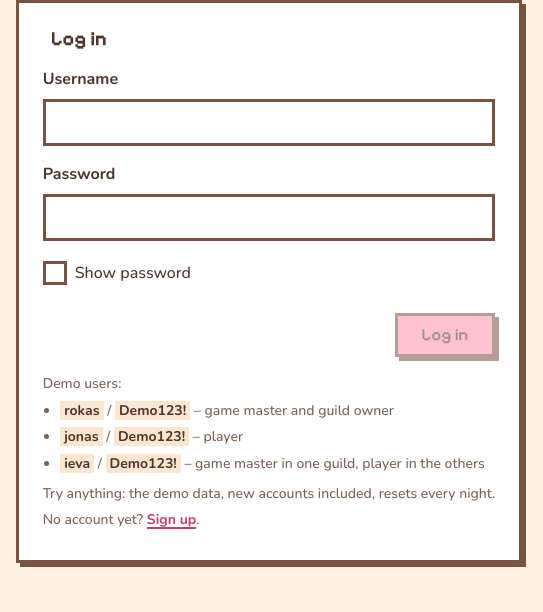
Test: LoginPage › shows the server error next to the form
This screenshot has width=543, height=612.
Type "jonas" into the field labelled "Username" at (269, 122), box [43, 99, 495, 146]
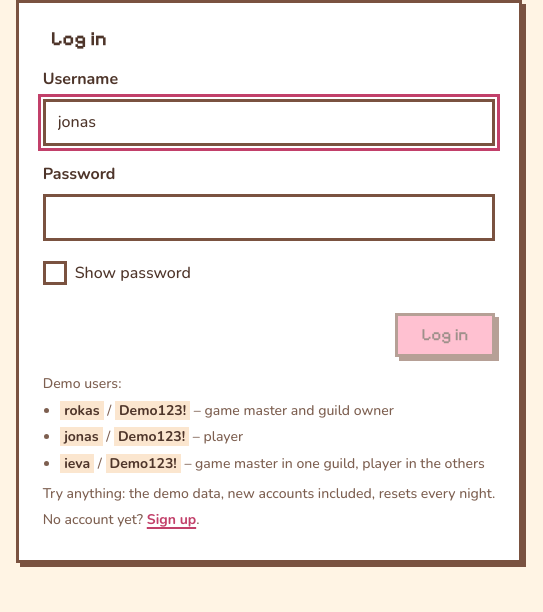
Type "wrong" into the password field labelled "Password" at (269, 218), box [43, 194, 495, 241]
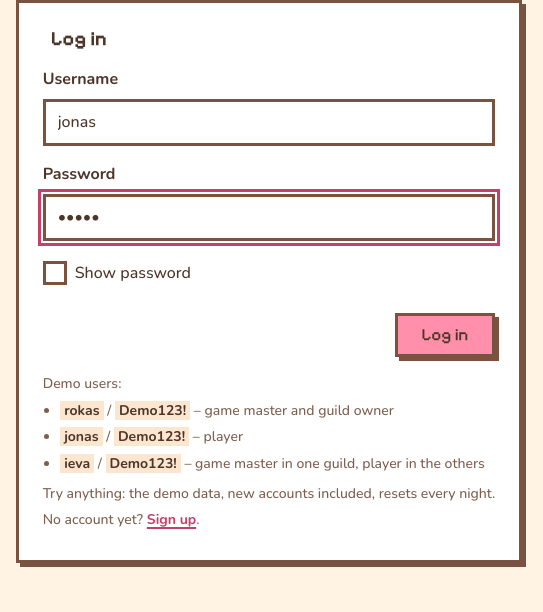
Click the button "Log in" at (445, 335), box [395, 313, 495, 357]
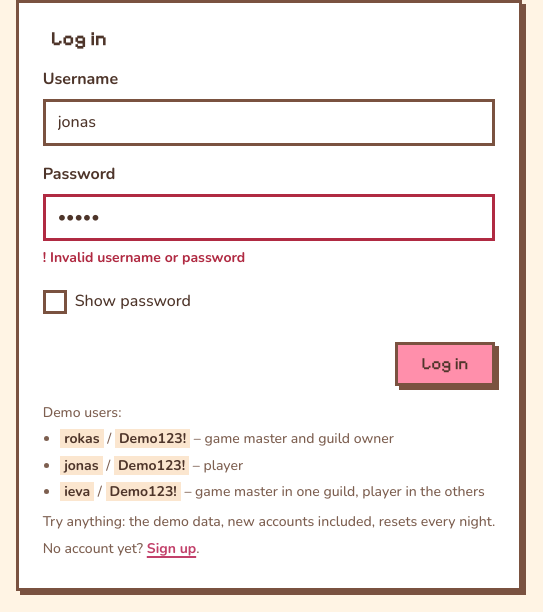
expect the message reads "Invalid username or password": met, box [50, 248, 245, 267]
